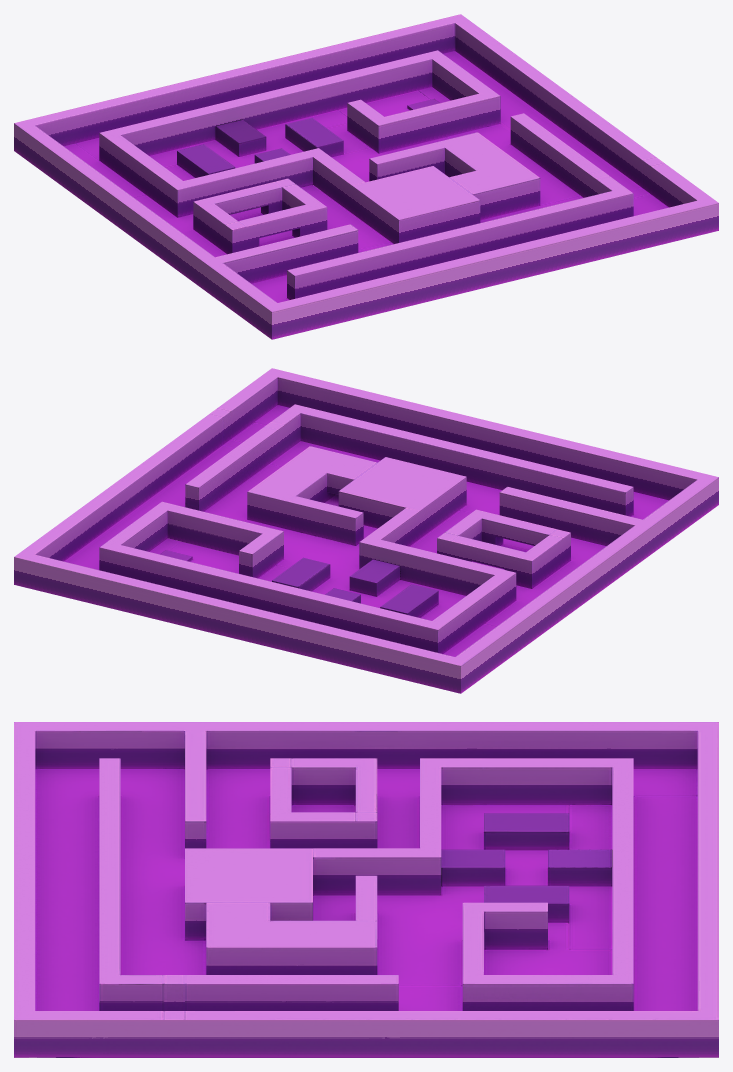
The model's file is map_basic.glb.
The picture shows the model from 3 angles, top to bottom: view 1: azimuth 30°, elevation 25°; view 2: azimuth 150°, elevation 25°; view 3: azimuth 270°, elevation 25°; orthographic projection. The views are drawn at different scales.
Visible parts, largest first — view 1: World; view 2: World; view 3: World.
Part boxes in pixels (box(x1,y1,x2,y2)): World: box(14, 14, 718, 339); World: box(14, 368, 718, 693); World: box(14, 722, 718, 1057).
Size of the model in its own units: 28.62 by 1.7 by 28.62.
Materials: 1 (1 with a texture image).
